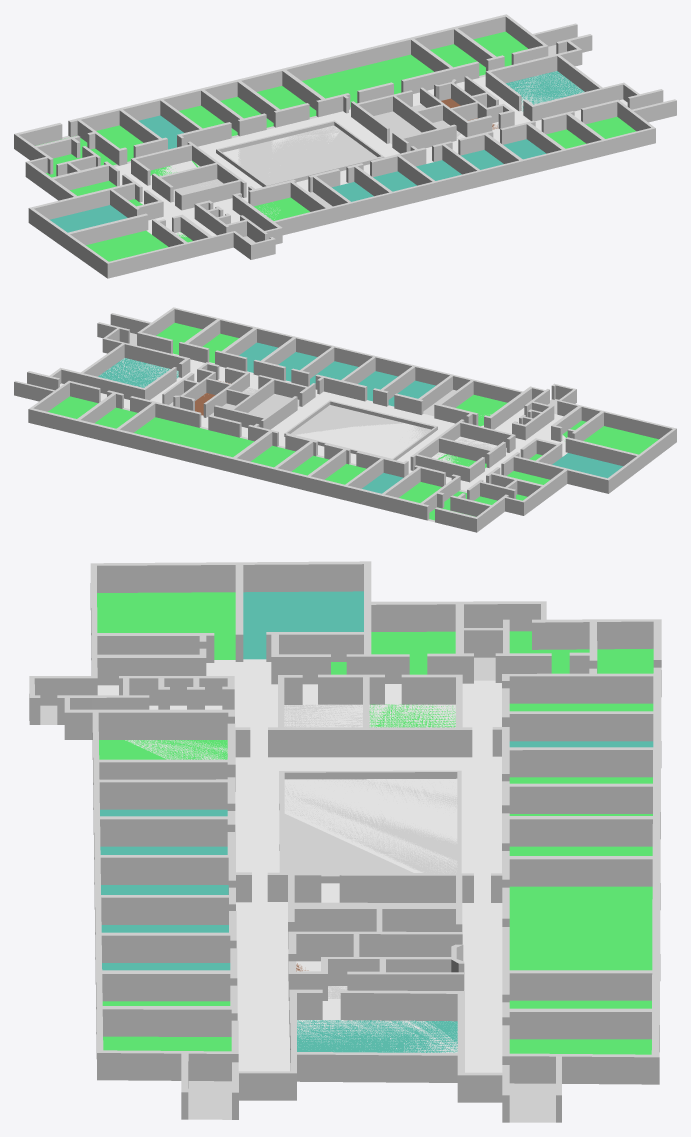
File: Diplom_3flor_centered_separeted.fbx
The picture shows the model from 3 angles, top to bottom: view 1: azimuth 30°, elevation 25°; view 2: azimuth 150°, elevation 25°; view 3: azimuth 270°, elevation 25°; orthographic projection. The views are drawn at different scales.
Visible parts, largest first — view 1: 3 floor_wall, 3 floor_ground, 3 floor_ups; view 2: 3 floor_wall, 3 floor_ground, 3 floor_ups; view 3: 3 floor_wall, 3 floor_ground, 3 floor_ups.
Part boxes in pixels (x1=…): 3 floor_wall: x1=14, y1=14, x2=676, y2=278; 3 floor_ground: x1=35, y1=31, x2=636, y2=261; 3 floor_ups: x1=238, y1=125, x2=377, y2=183; 3 floor_wall: x1=14, y1=307, x2=676, y2=532; 3 floor_ground: x1=48, y1=323, x2=658, y2=520; 3 floor_ups: x1=291, y1=405, x2=430, y2=440; 3 floor_wall: x1=29, y1=561, x2=661, y2=1122; 3 floor_ground: x1=40, y1=591, x2=653, y2=1122; 3 floor_ups: x1=284, y1=779, x2=457, y2=874.
Bounding box in the file's own units: 839 × 20 × 420.
